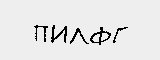Г: (113, 23, 128, 43)
И: (51, 25, 71, 44)
Л: (71, 28, 88, 47)
Р: (32, 23, 51, 44)
Ф: (90, 25, 111, 46)
